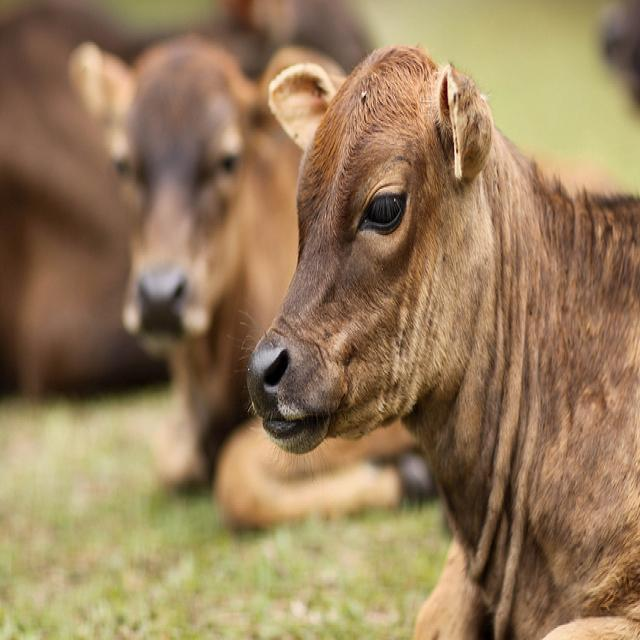cow: (248, 40, 638, 631), (71, 26, 444, 534), (0, 2, 169, 397)
